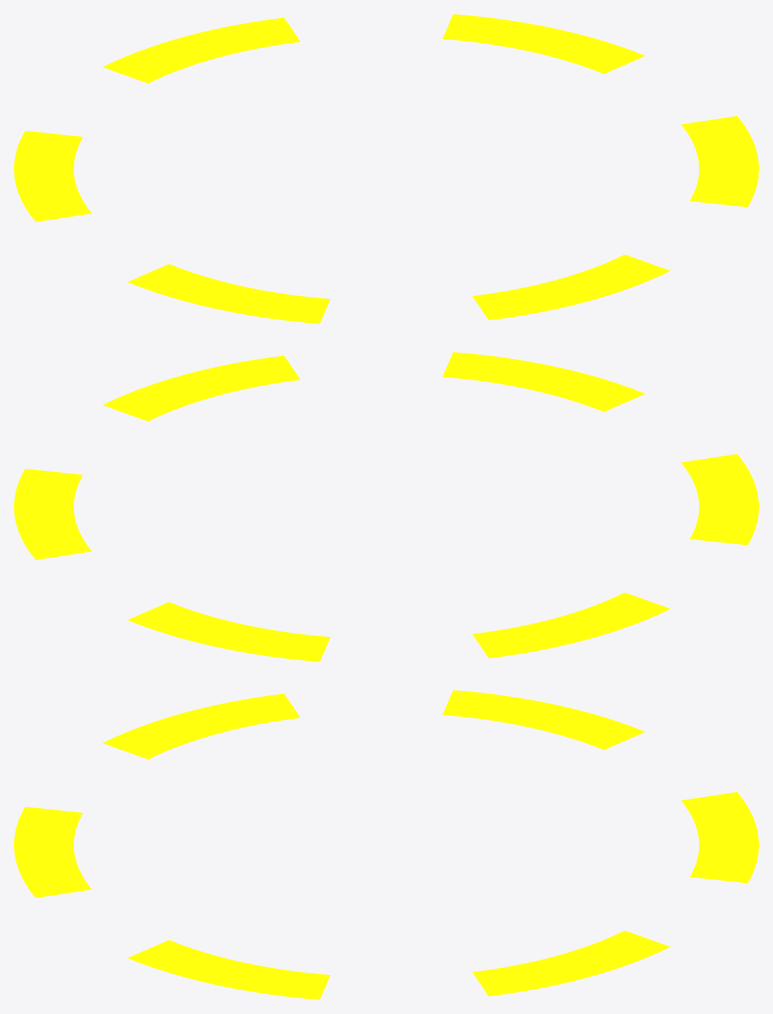
Rendered from hasedera02.glb.
3 views of the same model, one above another, from view 1: azimuth 30°, elevation 25°; view 2: azimuth 150°, elevation 25°; view 3: azimuth 270°, elevation 25° (orthographic).
Parts seen in each view (by area): view 1: en2; view 2: en2; view 3: en2.
Part boxes in pixels (x1,y1,x2,y2): en2: (14,14,758,323); en2: (14,352,758,661); en2: (14,690,758,999).
Bounding box in the file's own units: 23.27 × 3.99e-06 × 23.65.
